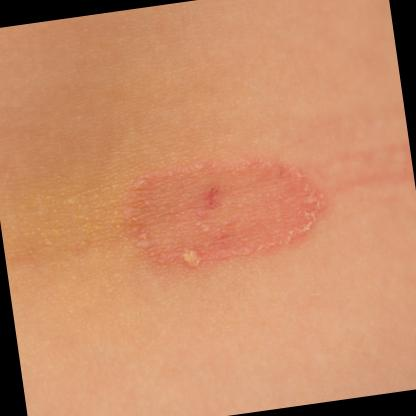Ringworm: (115, 134, 338, 288)
